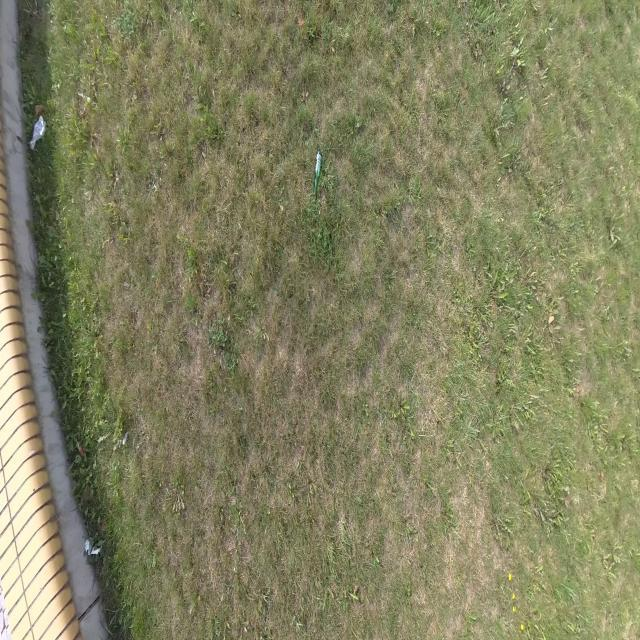rubbish: (29, 109, 46, 149), (313, 143, 323, 201)
